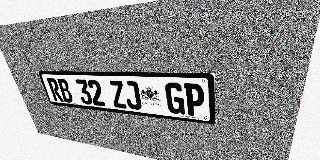2: (87, 79, 105, 106)
3: (75, 79, 93, 105)
B: (56, 78, 74, 103)
G: (165, 82, 185, 115)
J: (122, 81, 142, 110)
P: (184, 83, 204, 117)
R: (46, 78, 64, 102)
Z: (108, 80, 128, 109)
